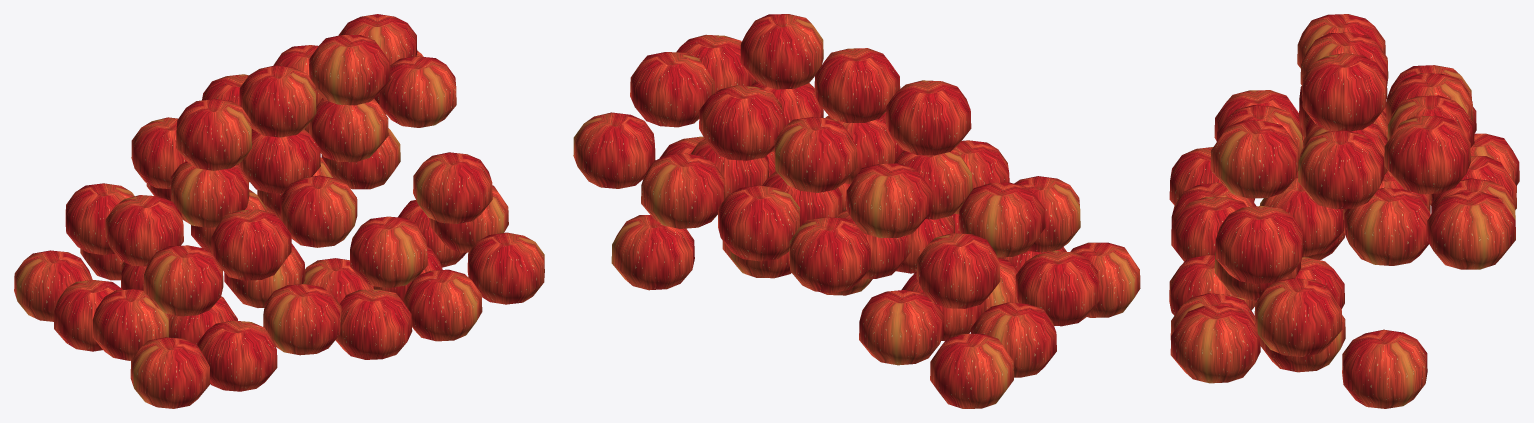
File: sk_produce_pile_apple.glb
3 renders of one model, left to right at view 1: azimuth 30°, elevation 25°; view 2: azimuth 150°, elevation 25°; view 3: azimuth 270°, elevation 25°, orthographic. The views are drawn at different scales.
Visible parts, largest first — view 1: sk_produce_pile_apple; view 2: sk_produce_pile_apple; view 3: sk_produce_pile_apple.
Part boxes in pixels (<box>): sk_produce_pile_apple: <box>14,14,544,408</box>; sk_produce_pile_apple: <box>573,14,1140,408</box>; sk_produce_pile_apple: <box>1169,14,1519,408</box>.
Size of the model in its own units: 0.4381 by 0.267 by 0.2945.
1 material, 1 textured.
